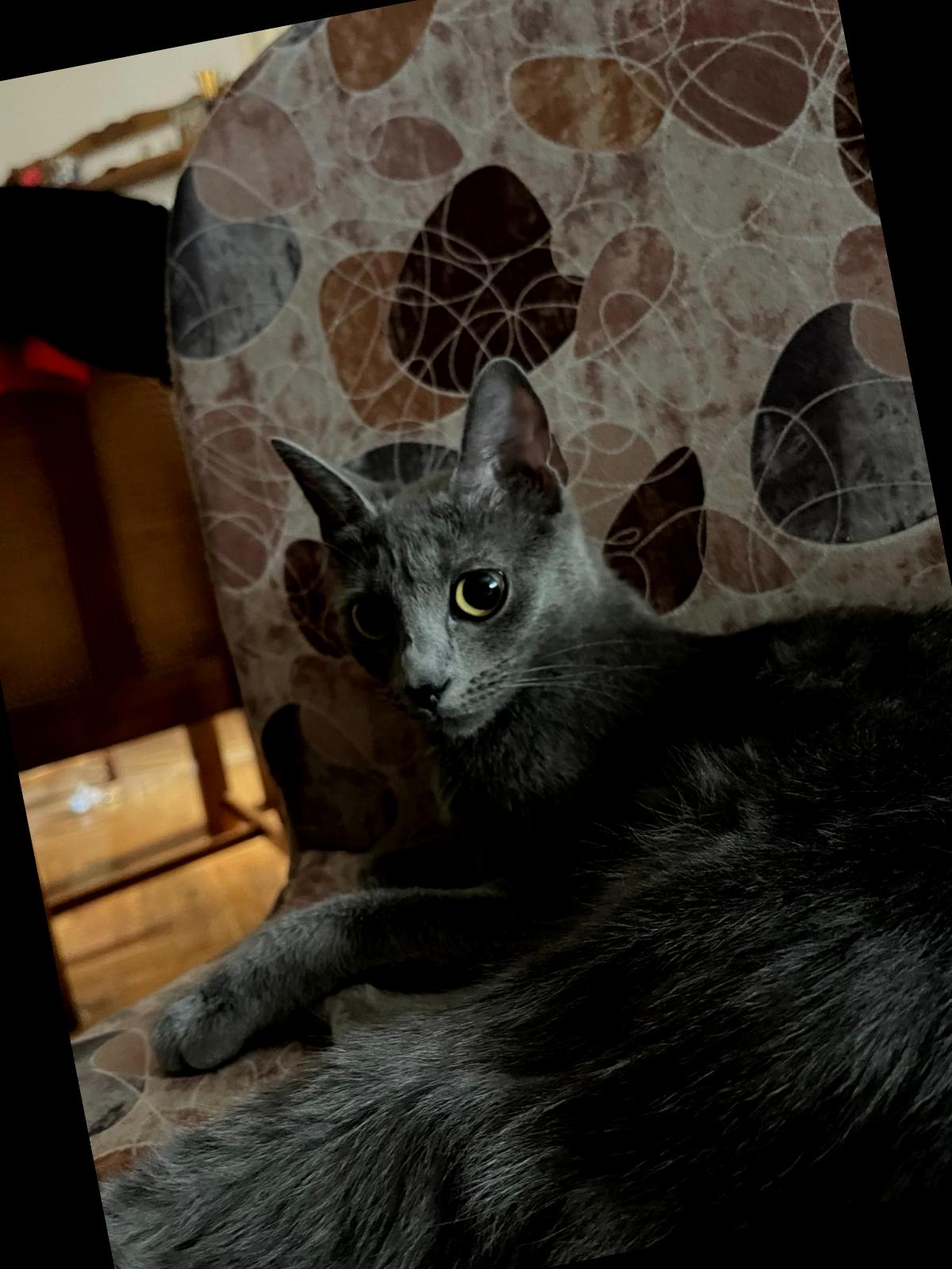macka: (0, 278, 952, 1269)
